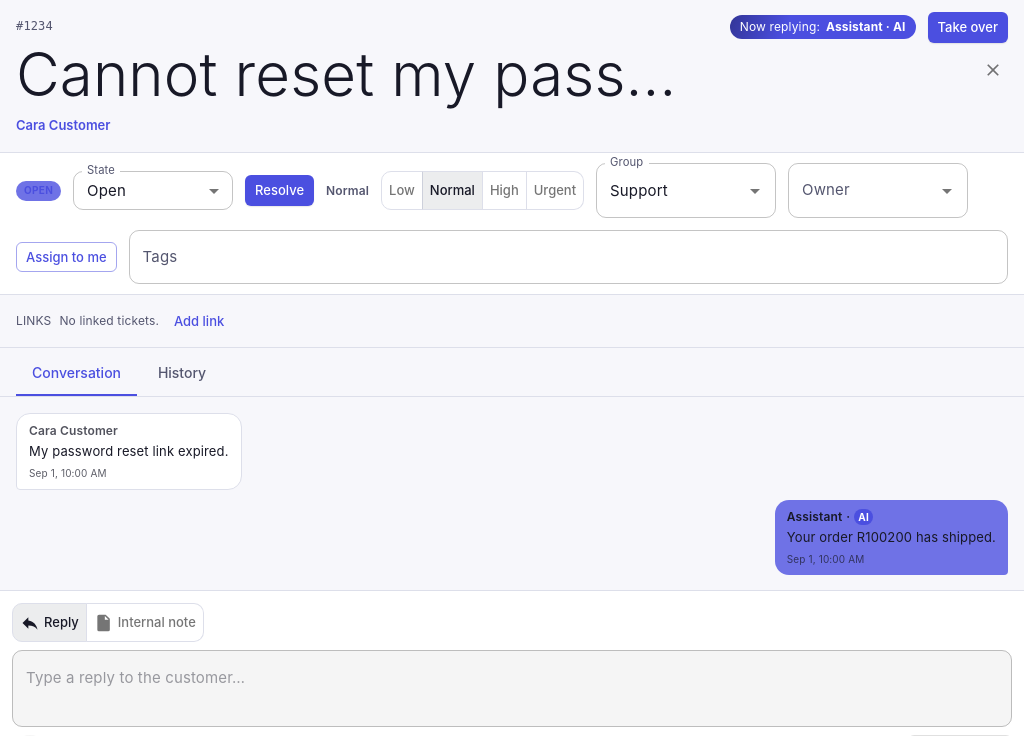
Test: the ticket view › takes over from the assistant and hands back, with the badge following
The image size is (1024, 736).
Check: the text "Assistant · AI" is shown, box 826,18 -> 906,36
Check: the button "Hand back to AI" is not shown
Click the button "Take over".
click(968, 27)  # box 928,12 -> 1008,43
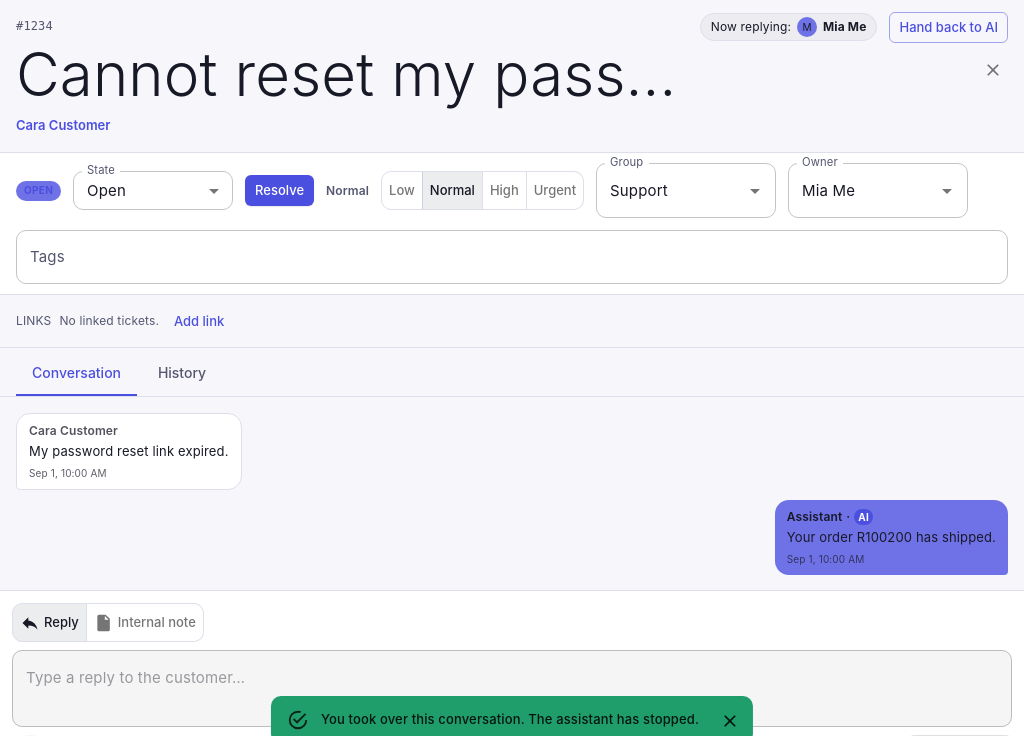
Check: the button "Hand back to AI" is shown
Check: the button "Take over" is gone
Click the button "Hand back to AI".
click(949, 27)  # box 890,12 -> 1008,43
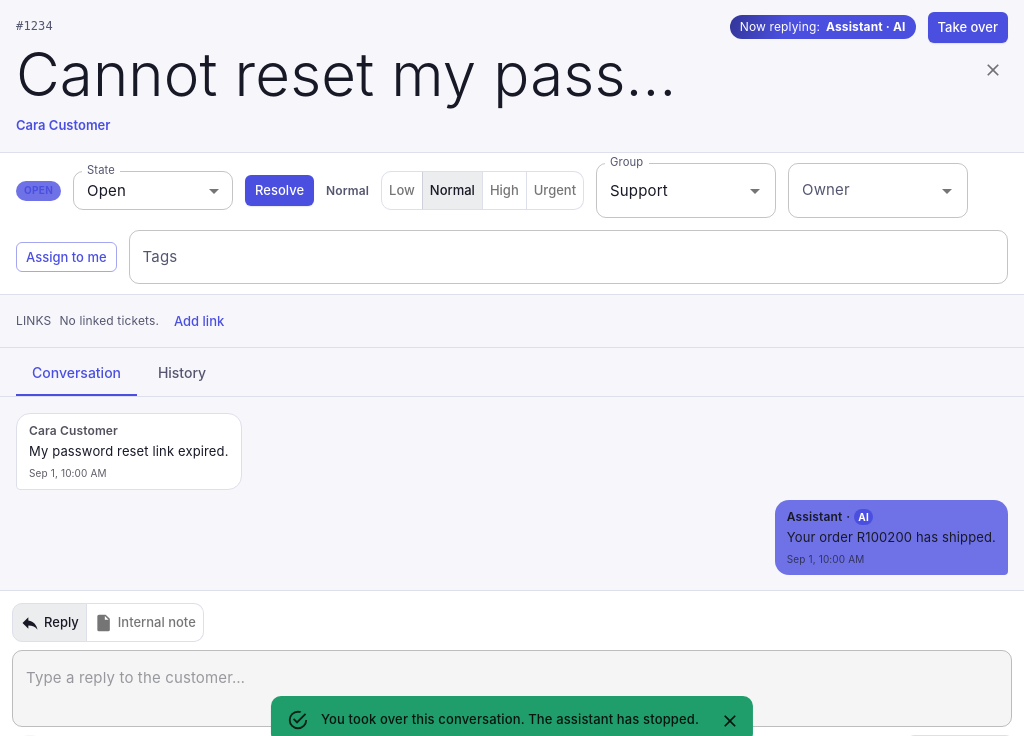
Check: the button "Take over" is shown, box 928,12 -> 1008,43
Check: the element with test id "responder-badge" reads "Now replying: Assistant · AI", box 730,15 -> 916,39
